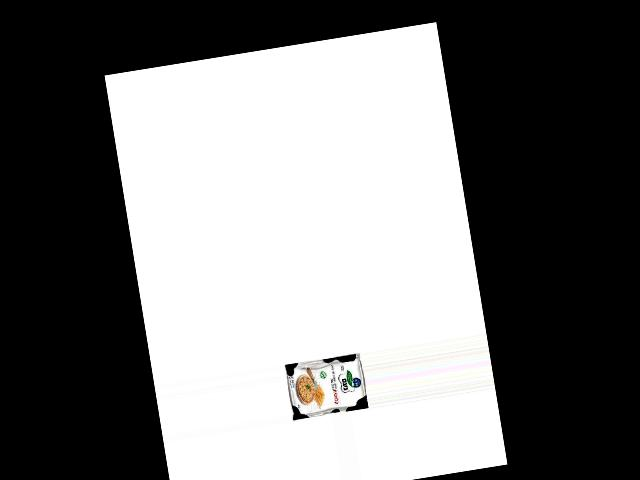cheese: (282, 351, 369, 422)
